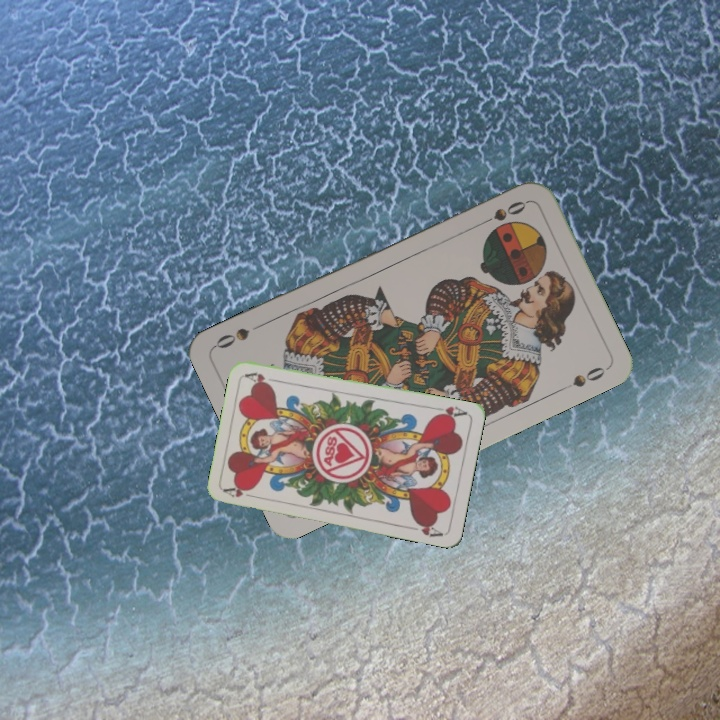HA: (429, 402, 470, 422), (221, 482, 261, 501)
SO: (474, 197, 530, 229)
